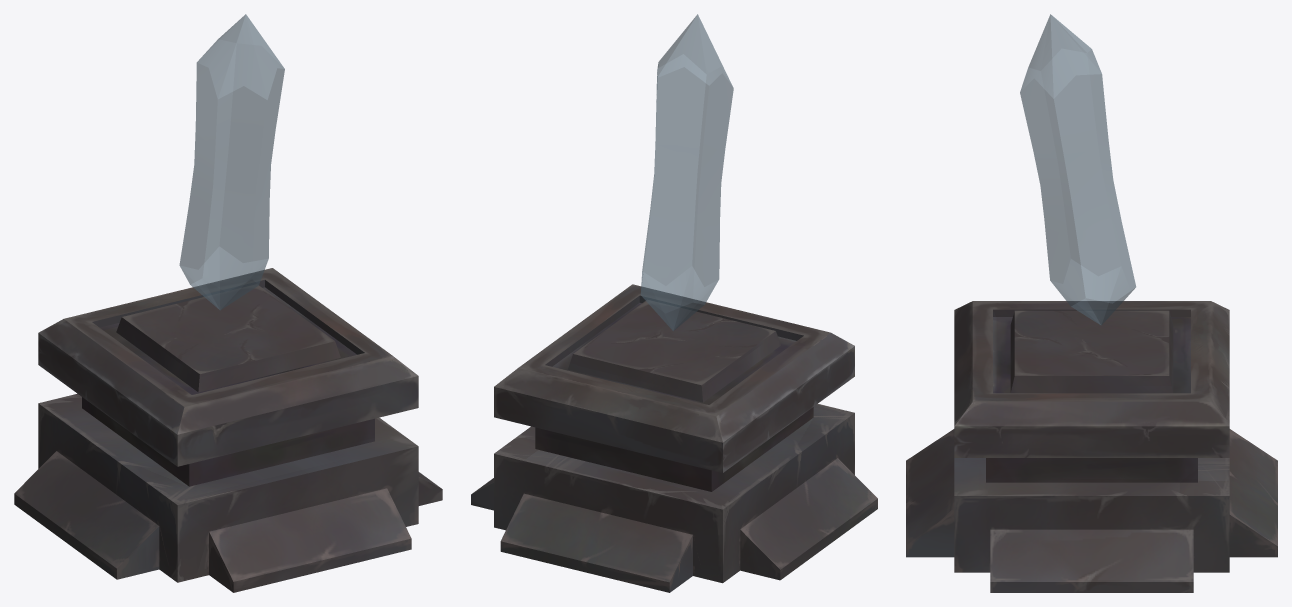
Rendered from crystalinactive.gltf.
3 renders of one model, left to right at view 1: azimuth 30°, elevation 25°; view 2: azimuth 150°, elevation 25°; view 3: azimuth 270°, elevation 25°, orthographic. The views are drawn at different scales.
Parts seen in each view (by area): view 1: default, Box001; view 2: default, Box001; view 3: default, Box001.
Part boxes in pixels (x1=…): default: x1=14, y1=268, x2=442, y2=592; Box001: x1=179, y1=14, x2=284, y2=310; default: x1=471, y1=284, x2=877, y2=592; Box001: x1=640, y1=14, x2=733, y2=330; default: x1=906, y1=301, x2=1277, y2=592; Box001: x1=1020, y1=14, x2=1135, y2=325.
Bounding box in the file's own units: 1.13 × 1.68 × 1.13.
Materials: 2 (1 with a texture image).
